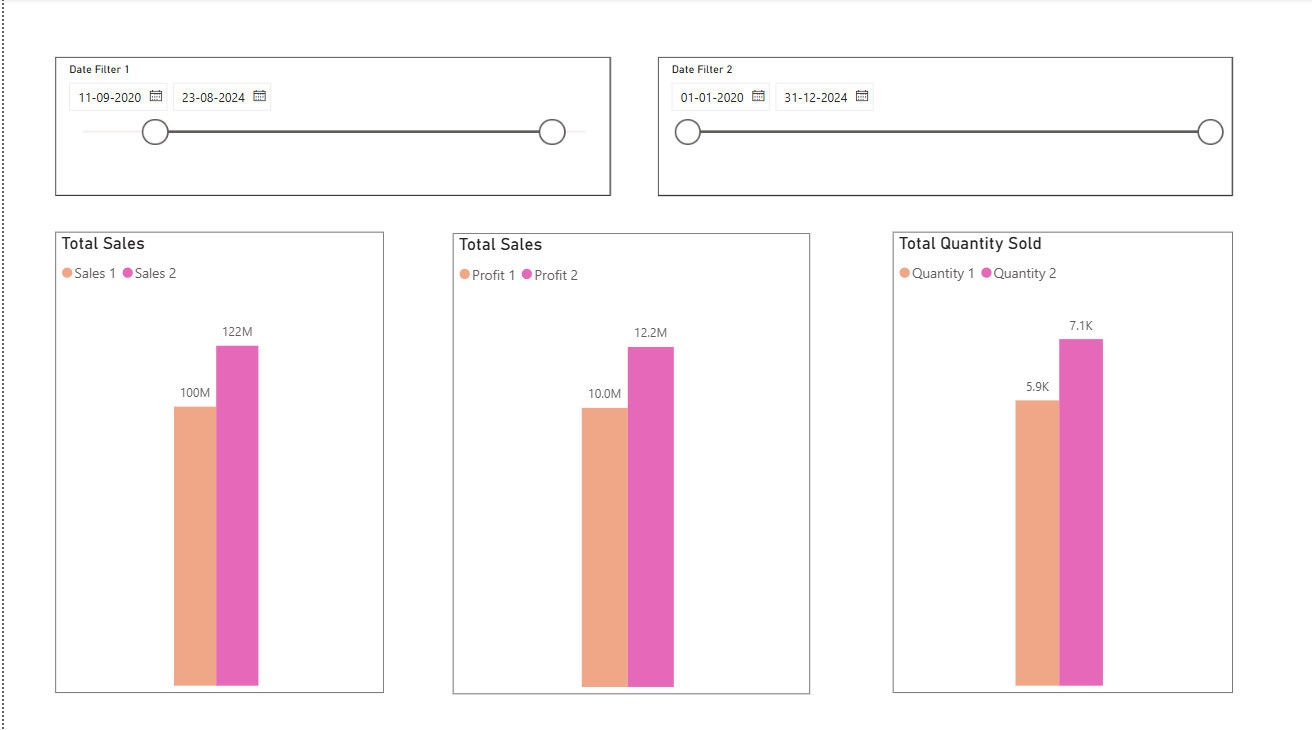

The dashboard page shown, as its layout file describes it:
{"tool":"powerbi","page":{"name":"Comparison Sales/Profit/Quantity","canvas":[1280,720],"ordinal":2},"visuals":[{"type":"slicer","fields":{"Values":["Date Table 1.Date"]},"box":[50.1,57.5,542.9,135.7],"z":0},{"type":"slicer","fields":{"Values":["Date Table 2.Date"]},"box":[639.5,57.5,562.5,135.7],"z":1000},{"type":"clusteredColumnChart","title":"Total Sales","fields":{"Y":["Sum(Fact Table.Net Sales)","Date Table 1.Sum of Net Sales"]},"box":[50.1,228.7,321.6,451.2],"z":2000},{"type":"clusteredColumnChart","title":"Total Sales","fields":{"Y":["Sum(Fact Table.Profit)","Measures Table.Total Profit"]},"box":[439,229.9,349.7,451.2],"z":3000},{"type":"clusteredColumnChart","title":"Total Quantity Sold","fields":{"Y":["Sum(Fact Table.Units Sold)","Measures Table.Quantity Sold"]},"box":[869.4,228.7,332.6,451.2],"z":4000}]}

Visuals, with their boxes in screenshot pixels (x1, y1, x2, y2), scaled from the page's 1280x720 canvas onto the 1312x730 screenshot:
slicer - Date Table 1.Date: [51,58,608,196]
slicer - Date Table 2.Date: [655,58,1232,196]
"Total Sales" clusteredColumnChart: [51,232,381,689]
"Total Sales" clusteredColumnChart: [450,233,808,691]
"Total Quantity Sold" clusteredColumnChart: [891,232,1232,689]
